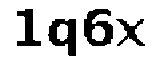1: (10, 6, 43, 51)
6: (80, 5, 114, 48)
q: (46, 15, 78, 60)
x: (116, 15, 148, 50)
